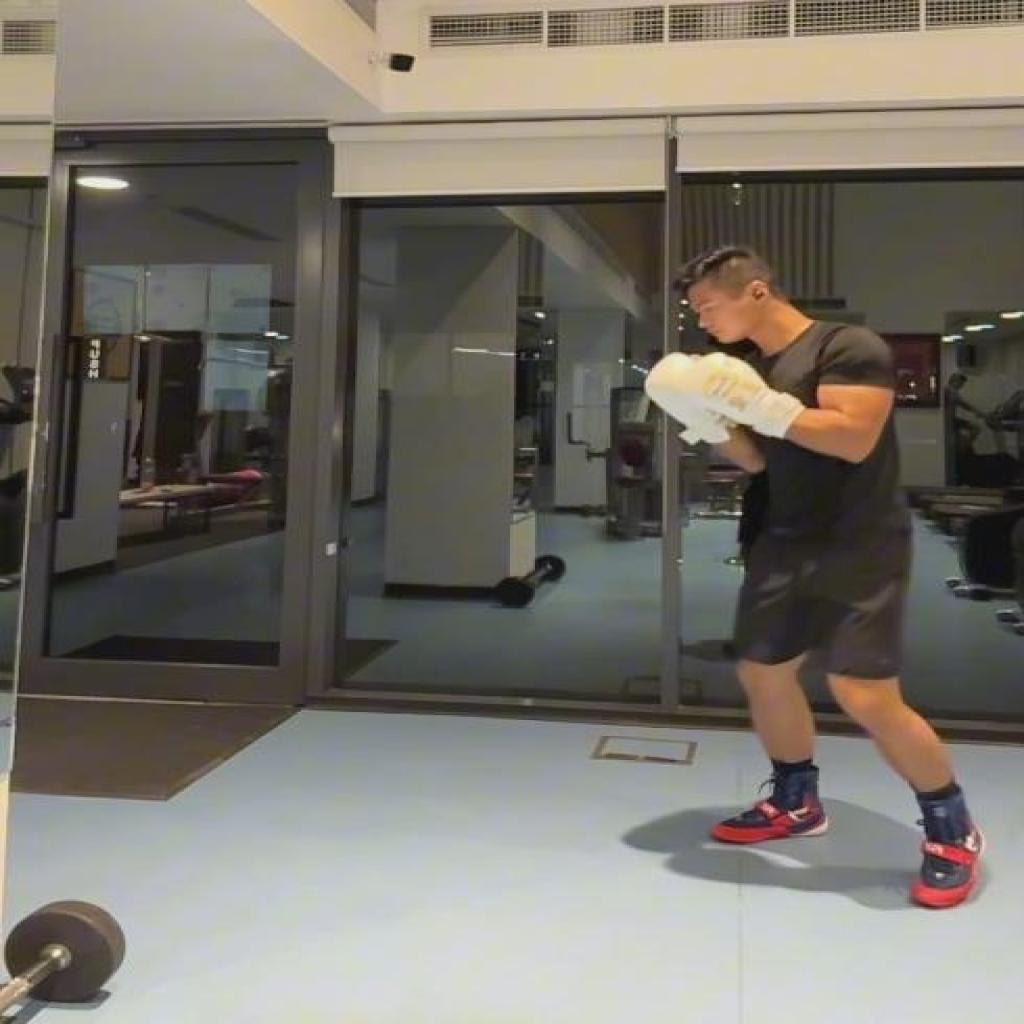no punch: (640, 238, 986, 910)
